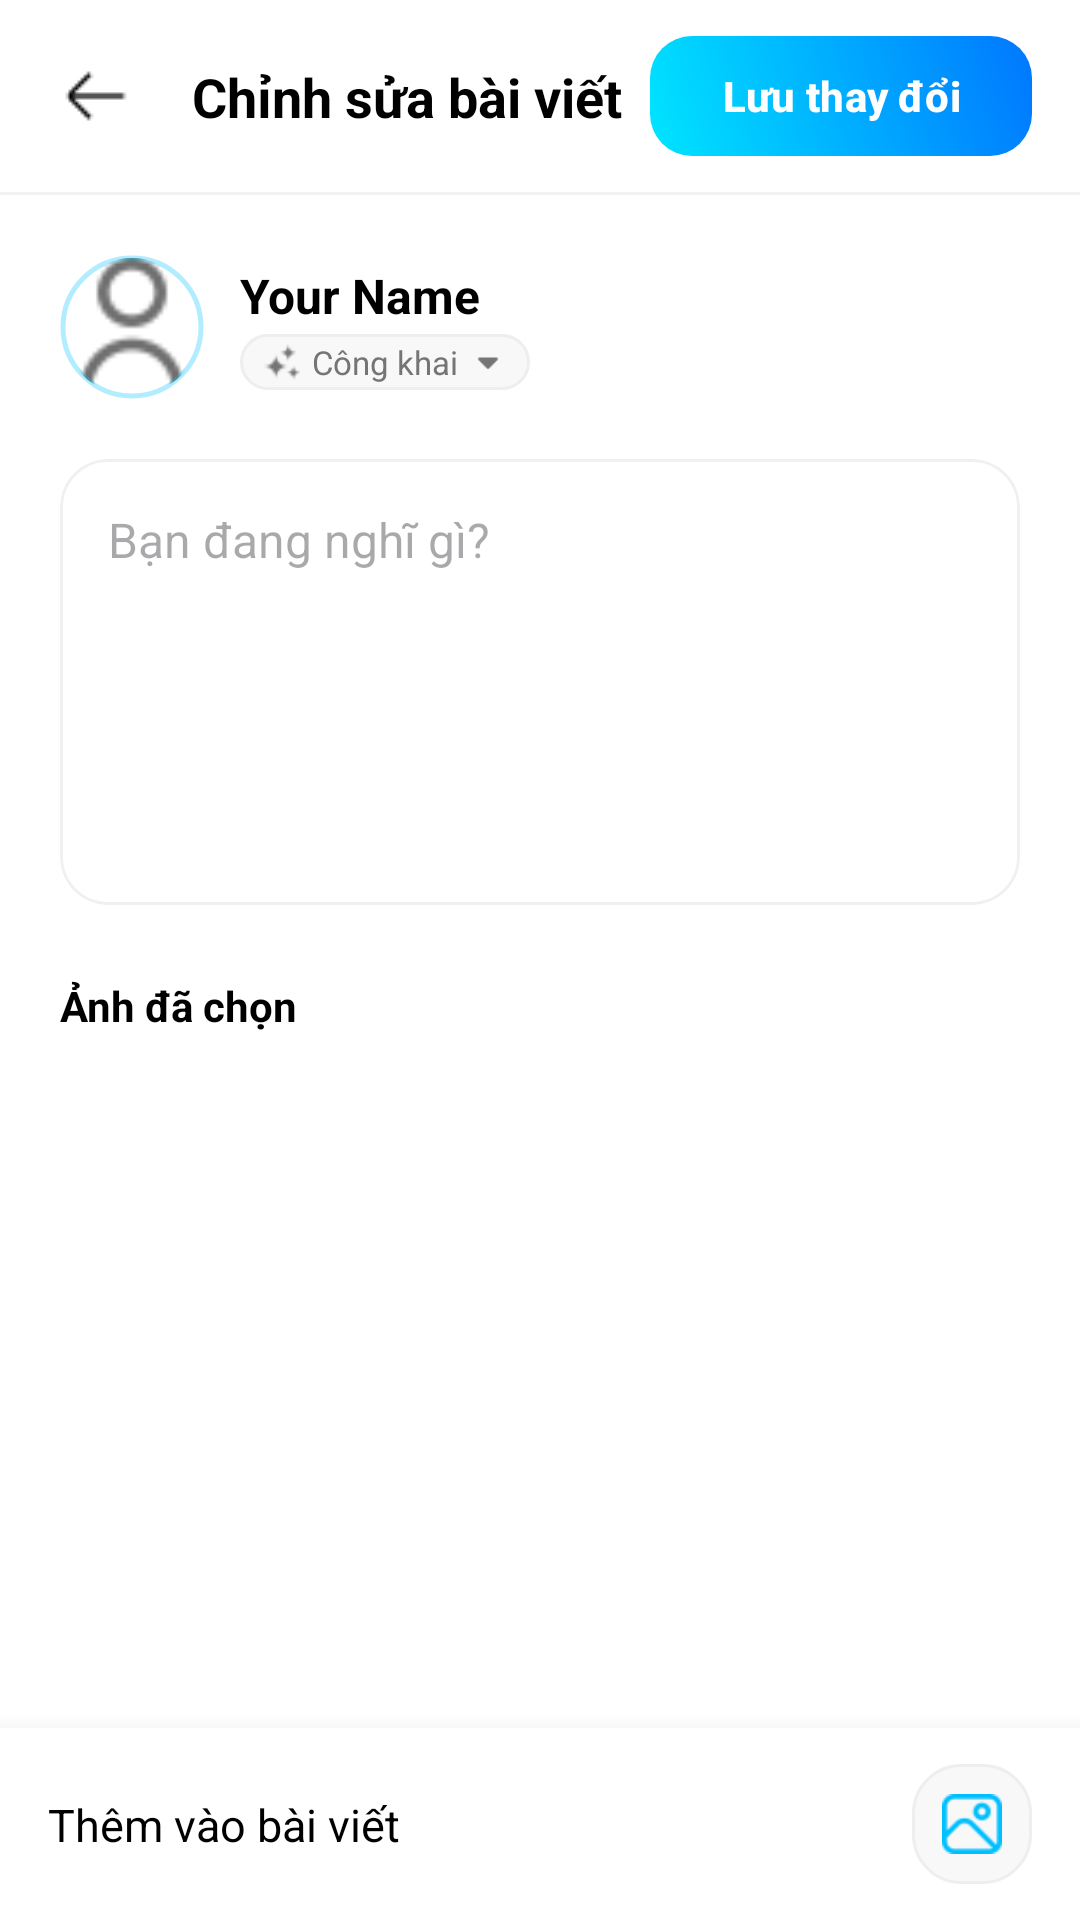

Point at icon controls on the screen. Image size 1080px×1920px, points as (x=x, y=y).
Quay lại: (x=96, y=96)
star: (x=283, y=362)
user: (x=132, y=327)
